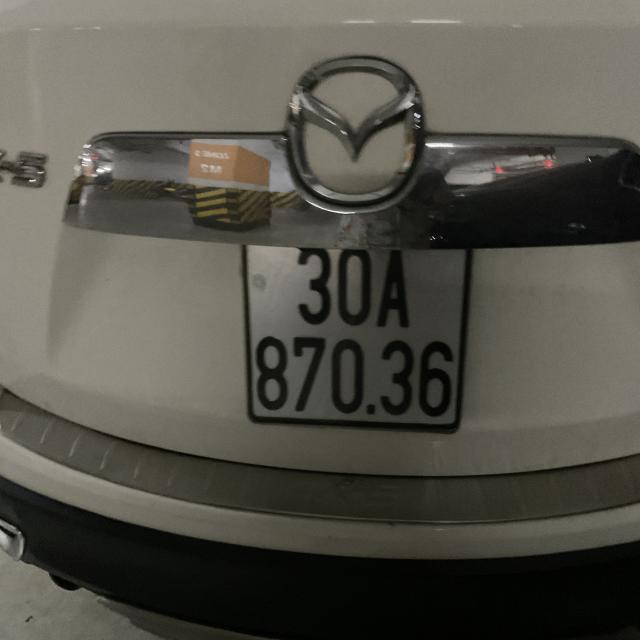license: (242, 243, 470, 432)
